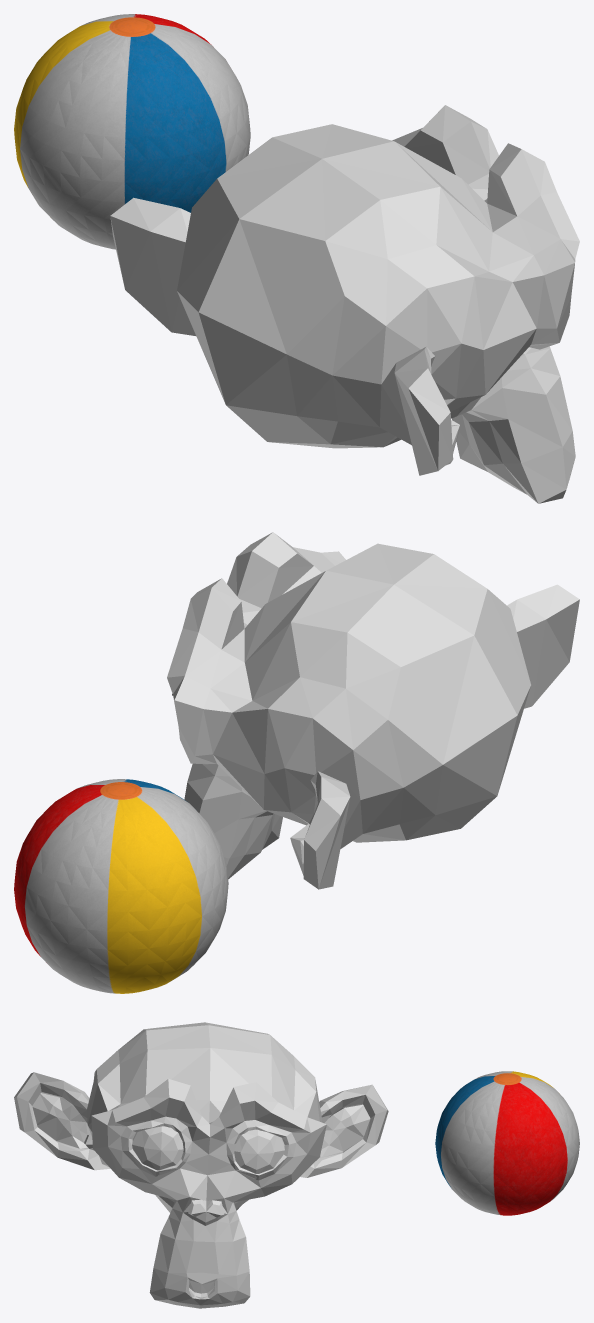
Rendered from beach_ball.dae.
3 views of the same model, one above another, from view 1: azimuth 30°, elevation 25°; view 2: azimuth 150°, elevation 25°; view 3: azimuth 270°, elevation 25° (orthographic). The views are drawn at different scales.
Parts seen in each view (by area): view 1: Suzanne, beach_ball; view 2: Suzanne, beach_ball; view 3: Suzanne, beach_ball.
Part boxes in pixels (x1=…): Suzanne: x1=110, y1=105, x2=579, y2=503; beach_ball: x1=14, y1=14, x2=250, y2=249; Suzanne: x1=167, y1=532, x2=579, y2=889; beach_ball: x1=14, y1=779, x2=228, y2=993; Suzanne: x1=14, y1=1022, x2=388, y2=1308; beach_ball: x1=435, y1=1071, x2=579, y2=1215.
Bounding box in the file's own units: 27.92 × 62.88 × 27.48.
1 material, 1 textured.
